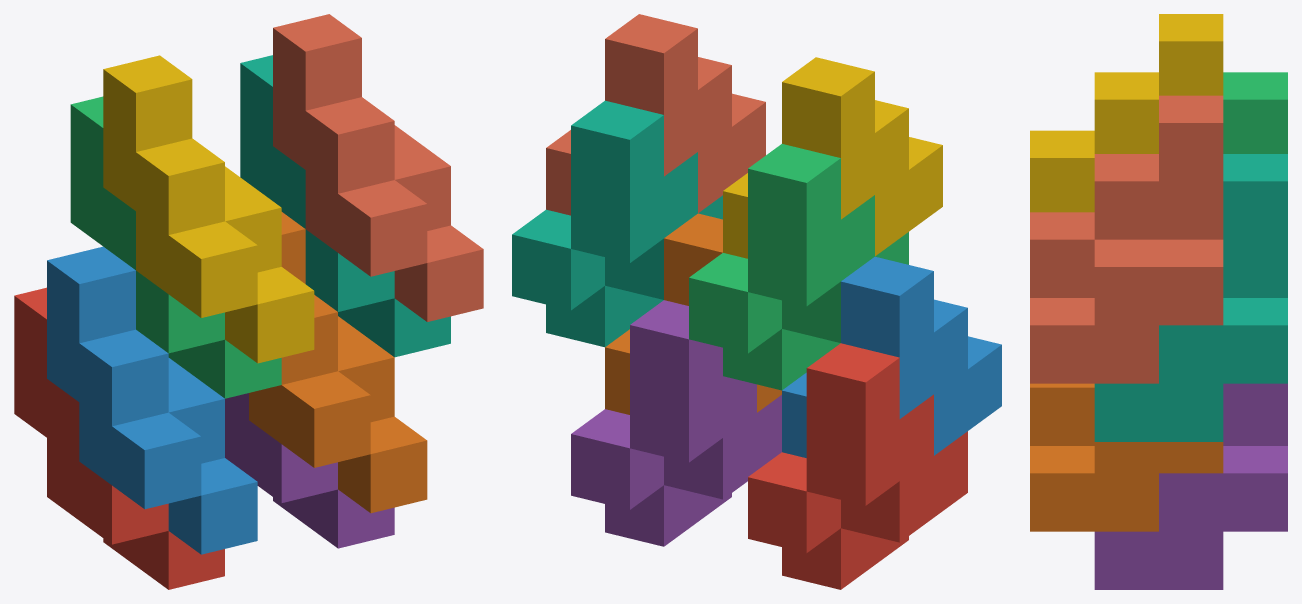
The model's file is tiling.obj.
The picture shows the model from 3 angles, left to right: view 1: azimuth 30°, elevation 25°; view 2: azimuth 150°, elevation 25°; view 3: azimuth 270°, elevation 25°; orthographic projection. The views are drawn at different scales.
Parts seen in each view (by area): view 1: copy_1_domain_4, copy_1_domain_8, copy_1_domain_2, copy_1_domain_6, copy_1_domain_1, copy_1_domain_3, copy_1_domain_7, copy_1_domain_5; view 2: copy_1_domain_1, copy_1_domain_5, copy_1_domain_3, copy_1_domain_7, copy_1_domain_2, copy_1_domain_4, copy_1_domain_8, copy_1_domain_6; view 3: copy_1_domain_8, copy_1_domain_7, copy_1_domain_5, copy_1_domain_6, copy_1_domain_4, copy_1_domain_3.
Part boxes in pixels (bbox=[...]): copy_1_domain_4: bbox=[103, 55, 314, 363]; copy_1_domain_8: bbox=[273, 14, 483, 321]; copy_1_domain_2: bbox=[47, 246, 257, 554]; copy_1_domain_6: bbox=[249, 212, 427, 513]; copy_1_domain_1: bbox=[14, 287, 224, 589]; copy_1_domain_3: bbox=[70, 96, 281, 398]; copy_1_domain_7: bbox=[240, 55, 450, 357]; copy_1_domain_5: bbox=[225, 393, 394, 548]; copy_1_domain_1: bbox=[748, 343, 967, 589]; copy_1_domain_5: bbox=[571, 300, 781, 546]; copy_1_domain_3: bbox=[689, 144, 908, 390]; copy_1_domain_7: bbox=[512, 100, 722, 347]; copy_1_domain_2: bbox=[782, 256, 1001, 457]; copy_1_domain_4: bbox=[723, 57, 942, 258]; copy_1_domain_8: bbox=[546, 14, 765, 215]; copy_1_domain_6: bbox=[605, 213, 781, 414]; copy_1_domain_8: bbox=[1030, 95, 1223, 383]; copy_1_domain_7: bbox=[1094, 154, 1287, 441]; copy_1_domain_5: bbox=[1094, 383, 1287, 589]; copy_1_domain_6: bbox=[1030, 383, 1223, 531]; copy_1_domain_4: bbox=[1030, 14, 1223, 212]; copy_1_domain_3: bbox=[1223, 72, 1287, 153].
Bounding box in the file's own units: 6 × 8 × 4.
